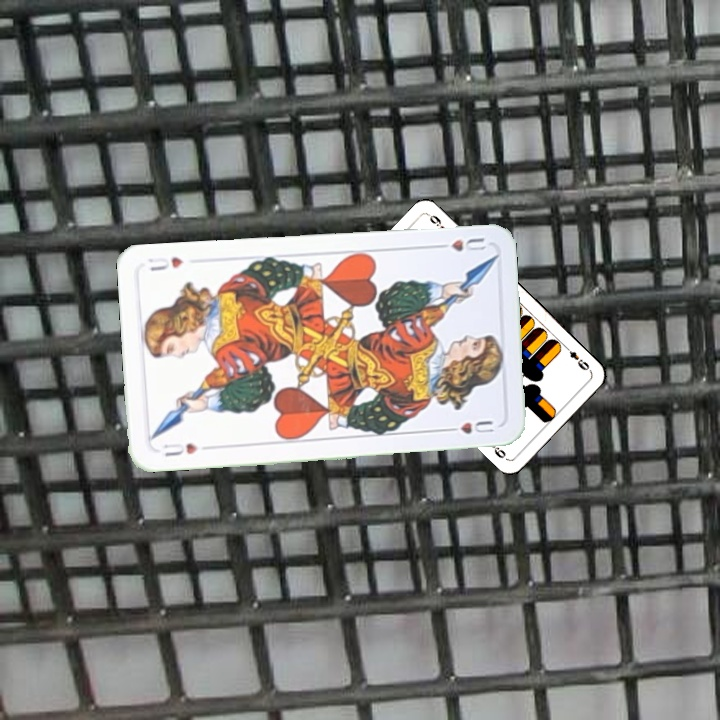E9: (560, 342, 593, 374)
HU: (431, 234, 488, 256), (159, 439, 200, 459)
